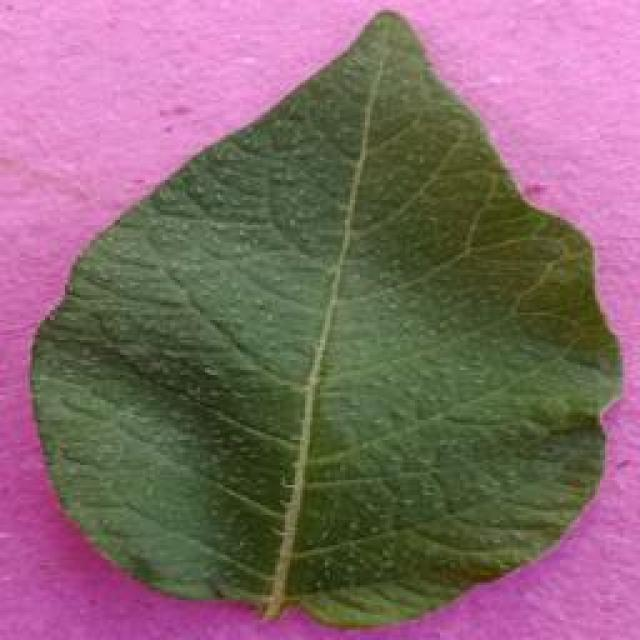Potato_Healthy: (30, 9, 612, 624)
